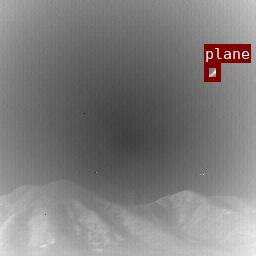plane: (204, 63, 220, 81)
